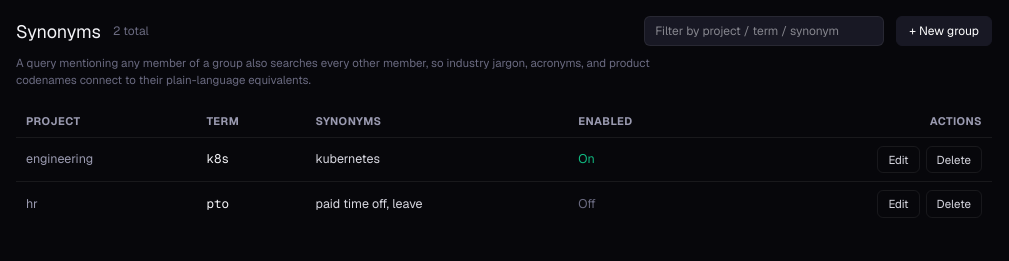
SynonymsList › surfaces a delete failure instead of swallowing it
Expected: the row with test id "admin-synonym-row-1" is shown, [16, 138, 992, 182]
What coordinates should you click on to do the following:
click the button with test id "admin-synonym-row-1-delete"
I would click on:
 (954, 160)
Its box is [926, 146, 982, 173].
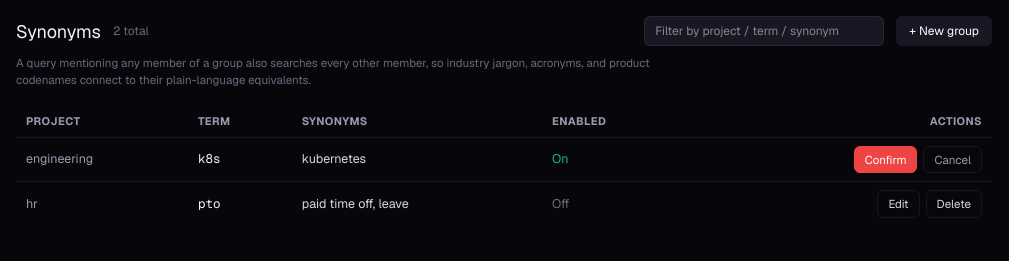
What coordinates should you click on to do the following:
click the button with test id "admin-synonym-row-1-delete-confirm"
I would click on:
 (886, 160)
Its box is [854, 146, 918, 173].
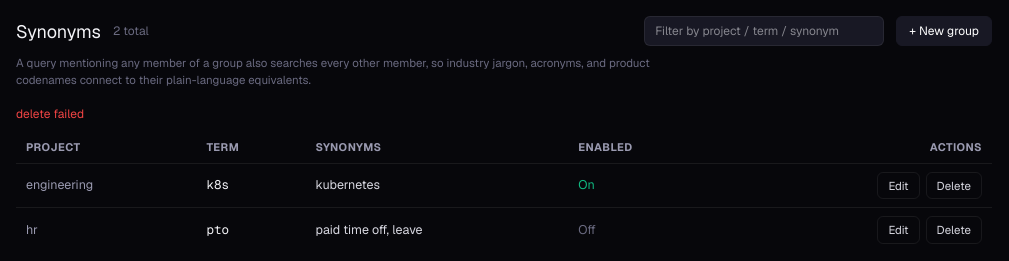
Expected: the message with test id "admin-synonyms-delete-error" reads "delete failed", [16, 106, 84, 122]
